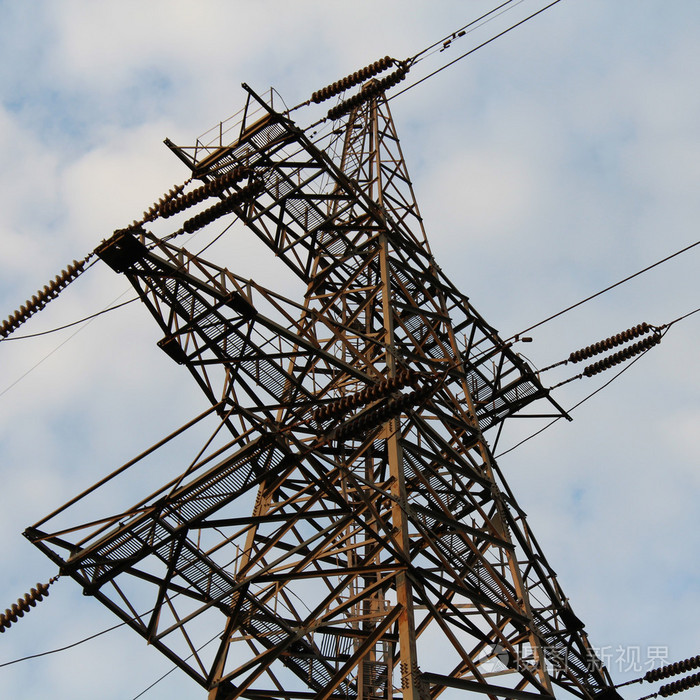insulator: (316, 371, 429, 434), (1, 260, 88, 334), (176, 179, 266, 235), (167, 162, 250, 218), (570, 325, 658, 377), (325, 71, 405, 122), (309, 52, 392, 101), (641, 654, 700, 697), (1, 582, 50, 629), (128, 185, 178, 227)
